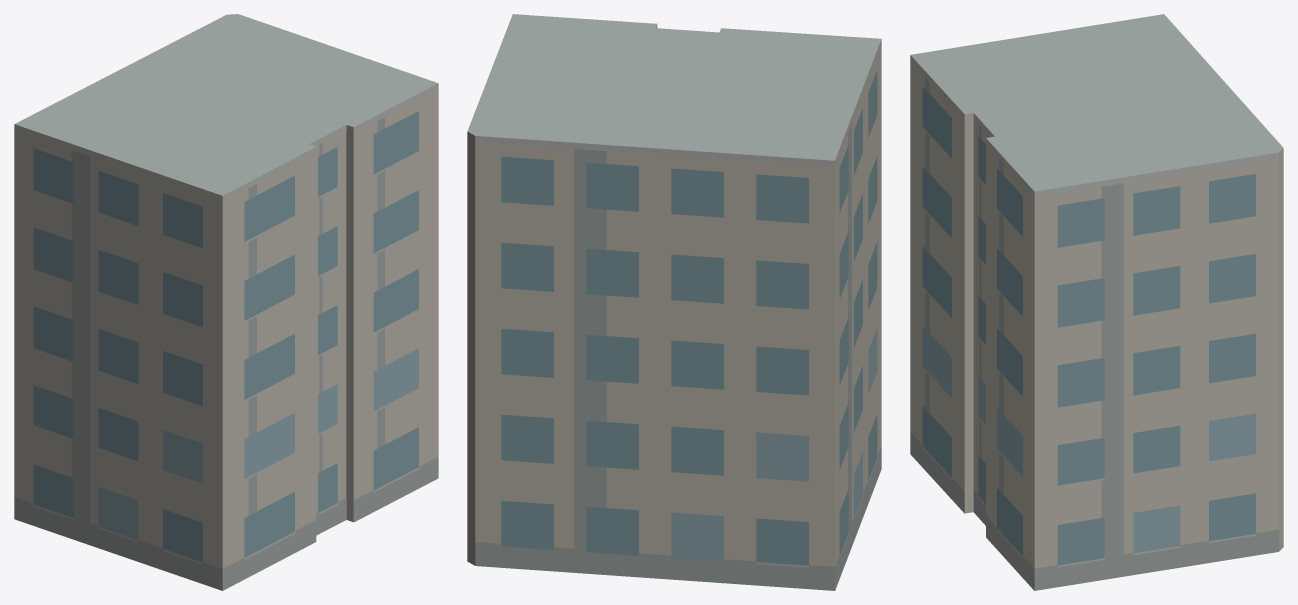
The model's file is survey-upis-32955732.glb.
3 views of the same model, side by side, from view 1: azimuth 30°, elevation 25°; view 2: azimuth 150°, elevation 25°; view 3: azimuth 270°, elevation 25° (orthographic). The views are drawn at different scales.
Visible parts, largest first — view 1: survey-upis-32955732.tmp; view 2: survey-upis-32955732.tmp; view 3: survey-upis-32955732.tmp.
Boxes of the visible parts, x1,y1,x2,y2 form: survey-upis-32955732.tmp: [14, 14, 438, 590]; survey-upis-32955732.tmp: [467, 14, 881, 590]; survey-upis-32955732.tmp: [910, 14, 1283, 590].
Size of the model in its own units: 15.84 by 16.6 by 14.07.
